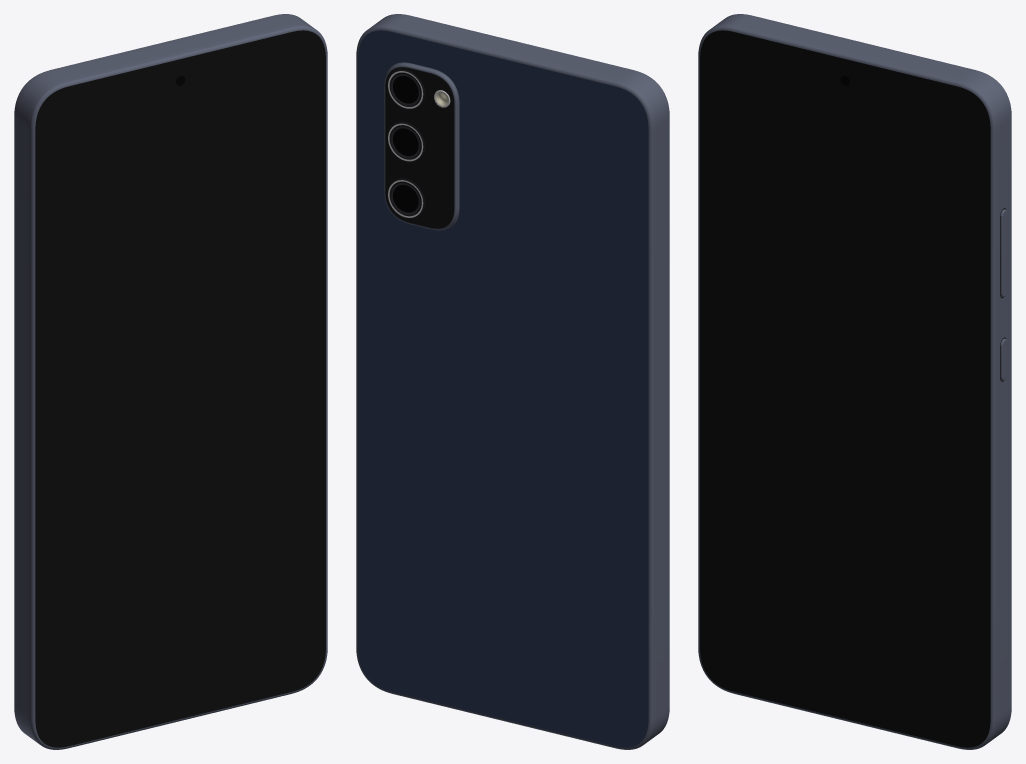
The model's file is galaxy-s20-fe.glb.
3 renders of one model, left to right at view 1: azimuth 30°, elevation 25°; view 2: azimuth 150°, elevation 25°; view 3: azimuth 330°, elevation 25°, orthographic.
Visible parts, largest first — view 1: body; view 2: body, camera; view 3: body, buttons.
Boxes of the visible parts, left/top/right/bottom form: body: left=14, top=14, right=327, bottom=749; body: left=356, top=14, right=669, bottom=749; camera: left=384, top=62, right=459, bottom=230; body: left=698, top=14, right=1011, bottom=749; buttons: left=1000, top=208, right=1007, bottom=381.
Bounding box in the file's own units: 74.93 × 160 × 9.62.
